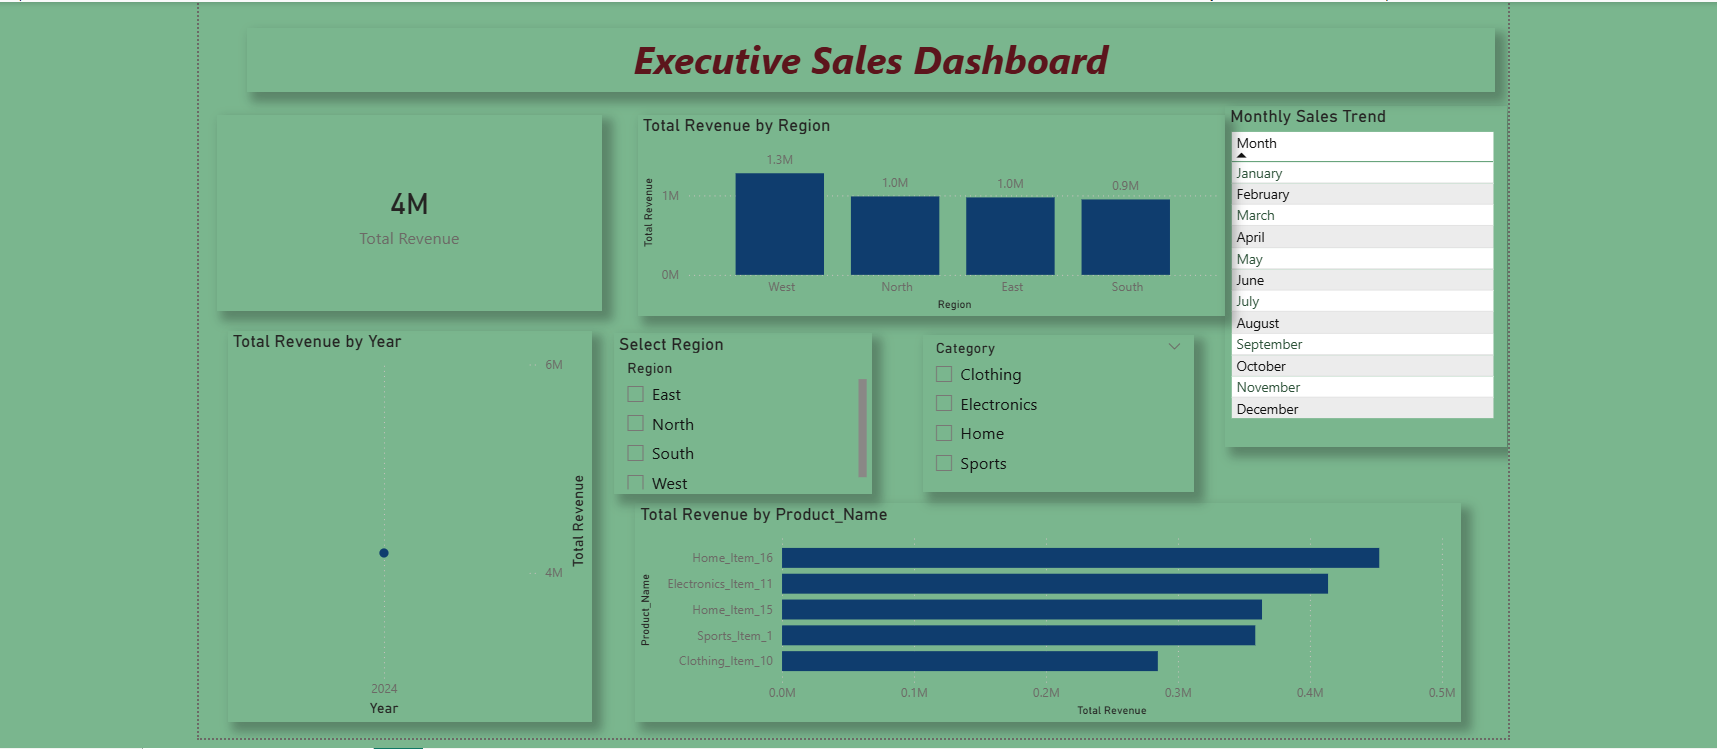

What the dashboard file says about the page in this screenshot:
{"tool":"powerbi","page":{"name":"Executive Sales DashBoard","canvas":[1280,720],"ordinal":0},"visuals":[{"type":"card","fields":{"Values":["Orders.Total Revenue"]},"box":[17.1,110.1,377.9,192],"z":0},{"type":"lineChart","fields":{"Category":["Orders.Order_Date.Variation.Date Hierarchy.Year","Orders.Order_Date.Variation.Date Hierarchy.Quarter","Orders.Order_Date.Variation.Date Hierarchy.Month","Orders.Order_Date.Variation.Date Hierarchy.Day"],"Y2":["Orders.Total Revenue"]},"box":[17.1,321.6,355.8,382.7],"z":1000},{"type":"tableEx","title":"Monthly Sales Trend","fields":{"Values":["Orders.Order_Date.Variation.Date Hierarchy.Month"]},"box":[1003.9,101.5,276.4,333.8],"z":2000},{"type":"clusteredBarChart","fields":{"Category":["Products.Product_Name"],"Y":["Orders.Total Revenue"]},"box":[426.8,490.4,808.3,214],"z":3000},{"type":"slicer","title":"Select Region","fields":{"Values":["Orders.Region"]},"box":[406,324.1,251.9,157.7],"z":4000},{"type":"slicer","fields":{"Values":["Products.Category"]},"box":[708,325.3,265.4,154.1],"z":5000},{"type":"columnChart","fields":{"Category":["Orders.Region"],"Y":["Orders.Total Revenue"]},"box":[429.2,110.1,574.7,196.9],"z":6000},{"type":"textbox","box":[46.5,25.7,1221.6,62.4],"z":7000}]}

Visuals, with their boxes on the page's 1280x720 design canvas (x1, y1, x2, y2). These are canvas units, not pixel positions in the 1717x749 screenshot, which may show the page scaled, cropped or inside an application window:
card - Orders.Total Revenue: select_region(17, 110, 395, 302)
lineChart - Orders.Order_Date.Variation.Date Hierarchy.Year x Orders.Order_Date.Variation.Date Hierarchy.Quarter: select_region(17, 322, 373, 704)
"Monthly Sales Trend" tableEx: select_region(1004, 102, 1280, 435)
clusteredBarChart - Products.Product_Name x Orders.Total Revenue: select_region(427, 490, 1235, 704)
"Select Region" slicer: select_region(406, 324, 658, 482)
slicer - Products.Category: select_region(708, 325, 973, 479)
columnChart - Orders.Region x Orders.Total Revenue: select_region(429, 110, 1004, 307)
textbox: select_region(46, 26, 1268, 88)
